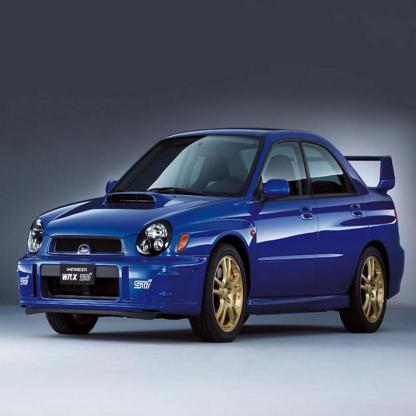Car: (17, 128, 405, 342)
